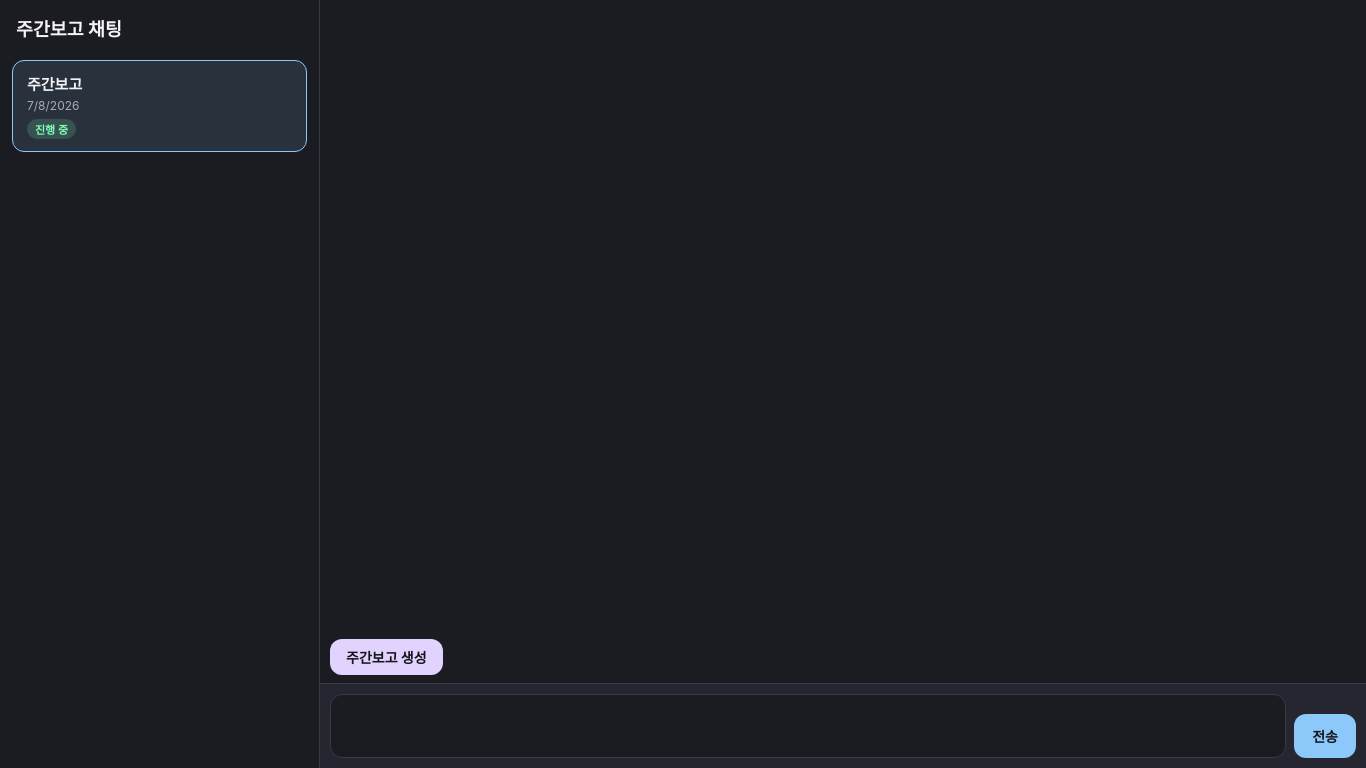
Test case: AppShell › shows the report card and a new active room after generating (Req 5.4, 6.4)
Type "주간 업무 내용" into the text box named "메시지 입력". click: (808, 726)
box: top-left (330, 694), bottom-right (1286, 758)
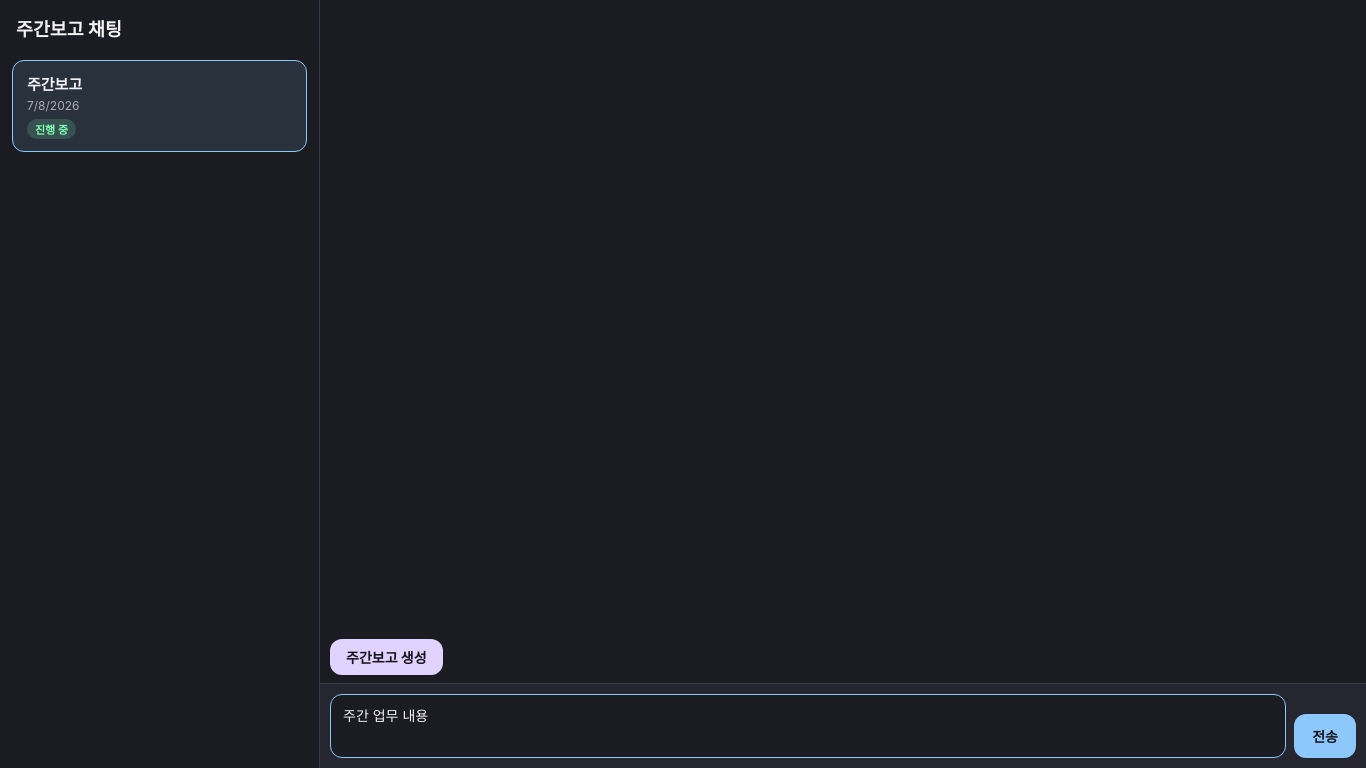
Click the button "전송". click: (1325, 736)
box: top-left (1294, 714), bottom-right (1356, 758)
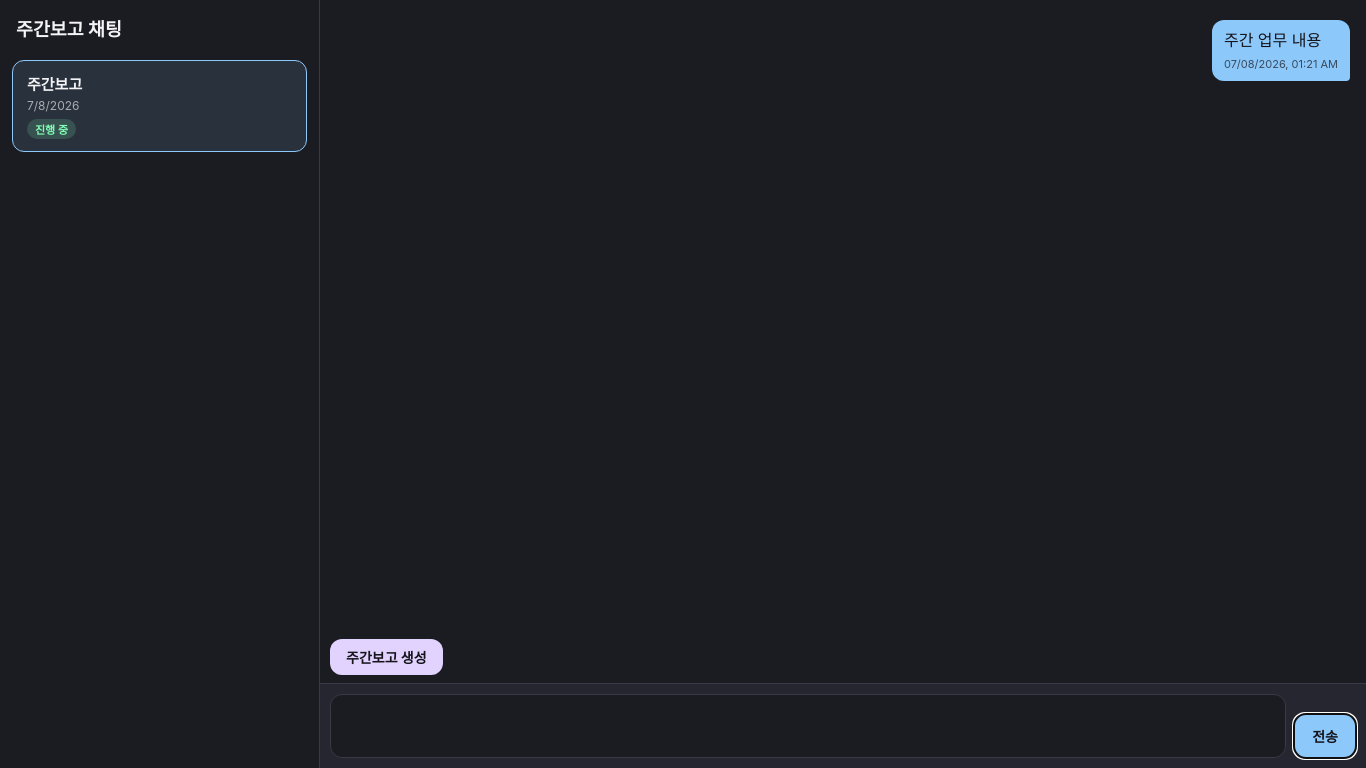
Now the text "주간 업무 내용" is shown, box top-left (1224, 28), bottom-right (1338, 52)
Click the button "주간보고 생성". click: (386, 657)
box: top-left (330, 639), bottom-right (443, 675)
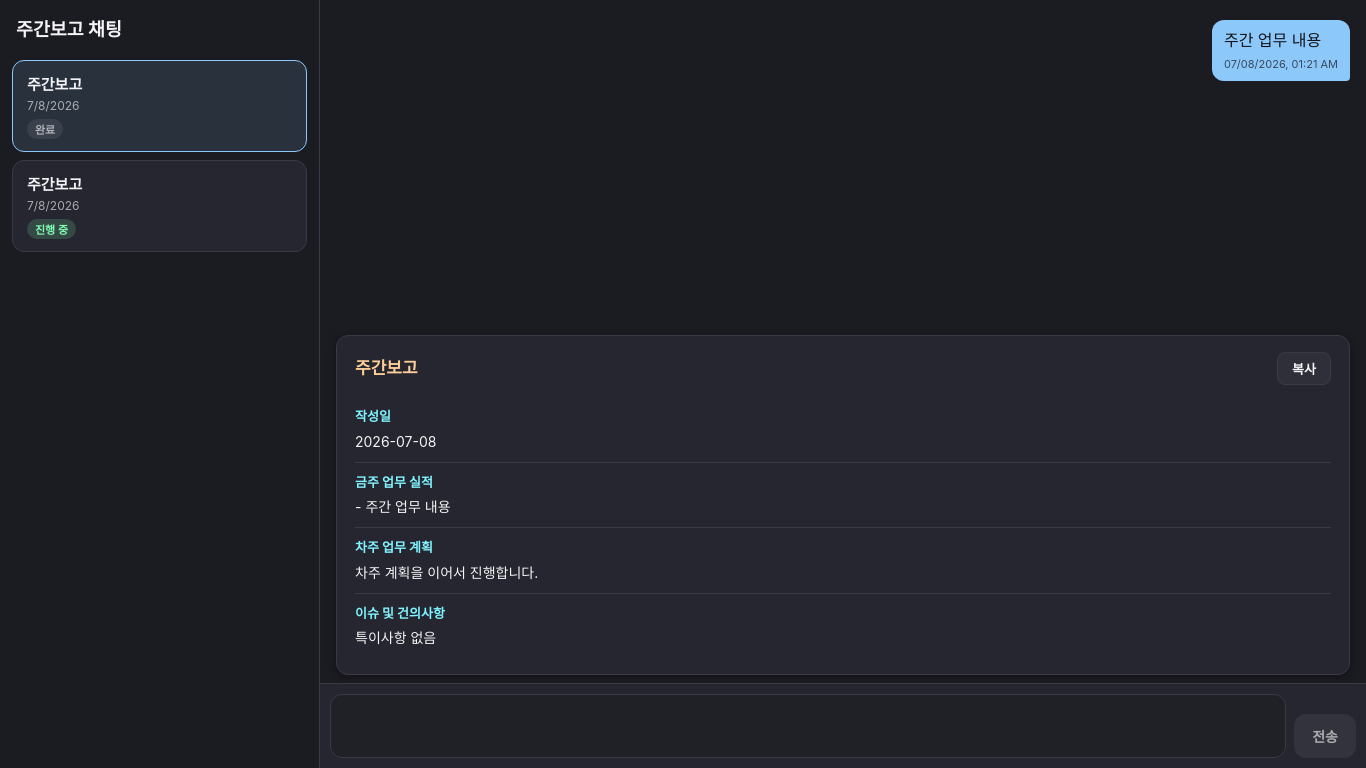
Now the heading "주간보고" is shown, box top-left (355, 356), bottom-right (418, 381)
